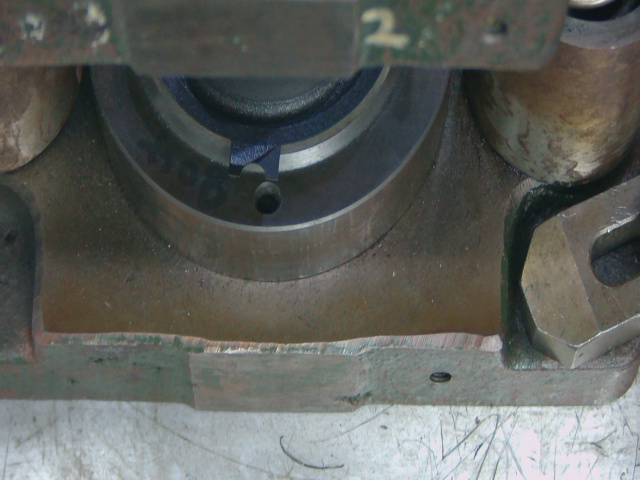NG: (225, 137, 296, 190)
